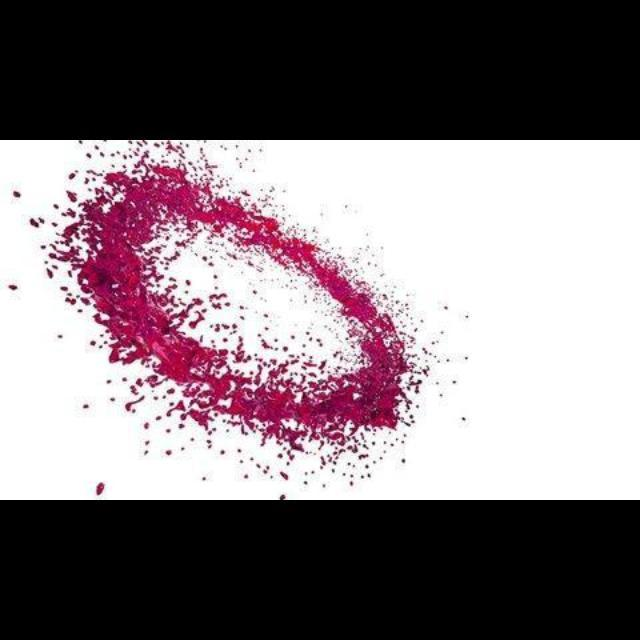blood: (45, 141, 437, 494), (11, 179, 69, 257), (95, 483, 105, 495), (8, 285, 17, 290)
